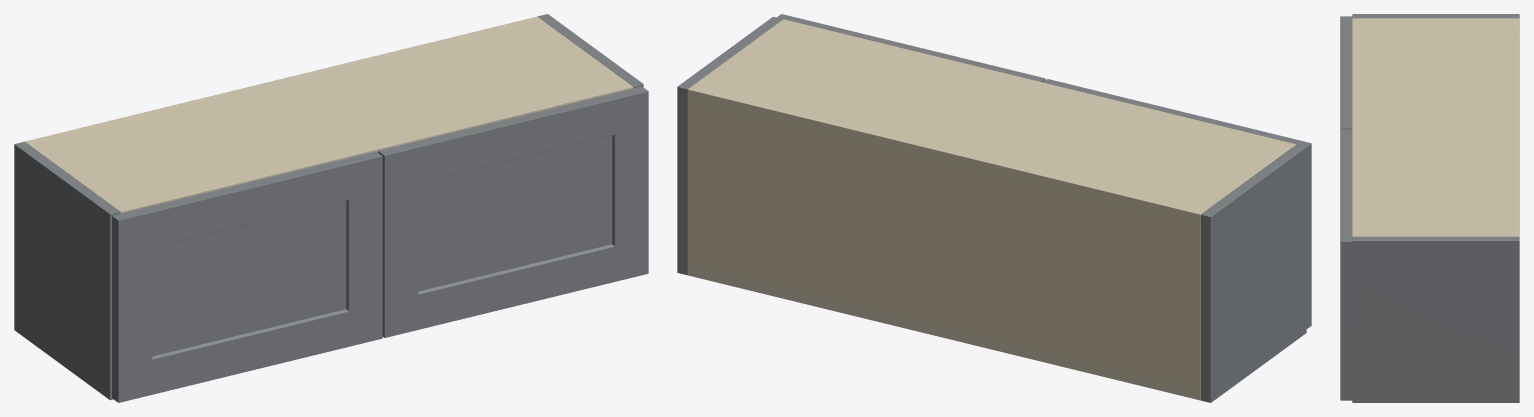
Rendered from oppein-ply-gss-w3612.glb.
3 views of the same model, side by side, from view 1: azimuth 30°, elevation 25°; view 2: azimuth 150°, elevation 25°; view 3: azimuth 270°, elevation 25° (orthographic). The views are drawn at different scales.
Visible parts, largest first — view 1: Door, Door.001, Cabinet top, Cabinet side, Cabinet back, Cabinet side.001; view 2: Cabinet back, Cabinet top, Cabinet side, Cabinet bottom, Cabinet side.001, Door, Door.001; view 3: Cabinet top, Cabinet side.001, Door.001, Cabinet back, Door, Cabinet side.
Boxes of the visible parts, box(x1,y1,x2,y2) form: Door: box(112, 151, 382, 402); Door.001: box(378, 86, 648, 337); Cabinet top: box(28, 17, 633, 213); Cabinet side: box(14, 141, 120, 400); Cabinet back: box(25, 16, 540, 144); Cabinet side.001: box(537, 14, 643, 88); Cabinet back: box(687, 86, 1203, 400); Cabinet top: box(687, 19, 1295, 223); Cabinet side: box(1200, 144, 1306, 402); Cabinet bottom: box(687, 265, 1200, 400); Cabinet side.001: box(677, 16, 783, 275); Door: box(1043, 79, 1311, 328); Door.001: box(777, 14, 1045, 82); Cabinet top: box(1352, 18, 1519, 236); Cabinet side.001: box(1352, 236, 1519, 402); Door.001: box(1340, 129, 1352, 400); Cabinet back: box(1512, 18, 1519, 236); Door: box(1340, 16, 1352, 129); Cabinet side: box(1352, 14, 1519, 18).
Bounding box in the file's own units: 0.9144 × 0.3048 × 0.3048.
